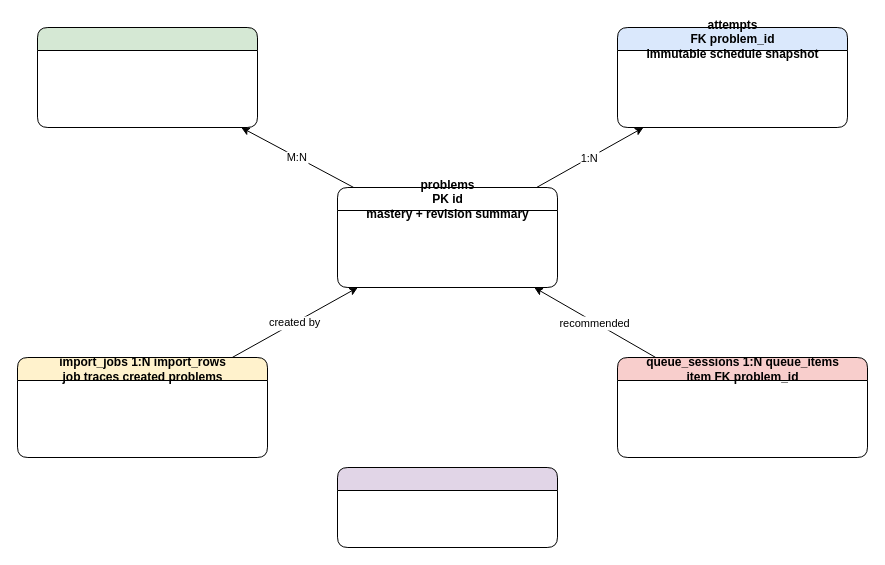
Image size: 885x565. Some labels were removed from this diagram. The shapes that lost their labels are listed below. From the top down, each one's box as (x1, y1, x2, y2) in pixels, then its label:
(36, 26, 258, 128): topics M:N association tables
(336, 466, 558, 548): user_preferences successful intervals
